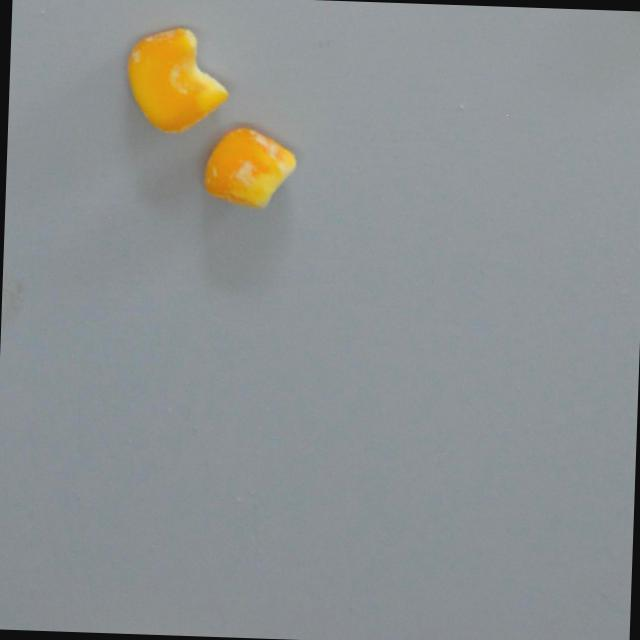pelicula: (122, 26, 231, 136), (200, 126, 298, 211)
